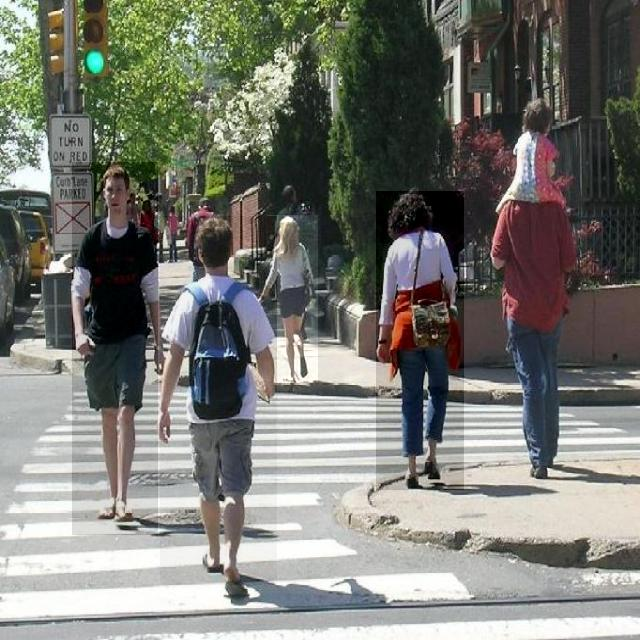with scooter: (160, 216, 277, 585), (491, 98, 584, 482), (72, 162, 158, 535), (376, 191, 464, 490), (267, 215, 318, 383)
